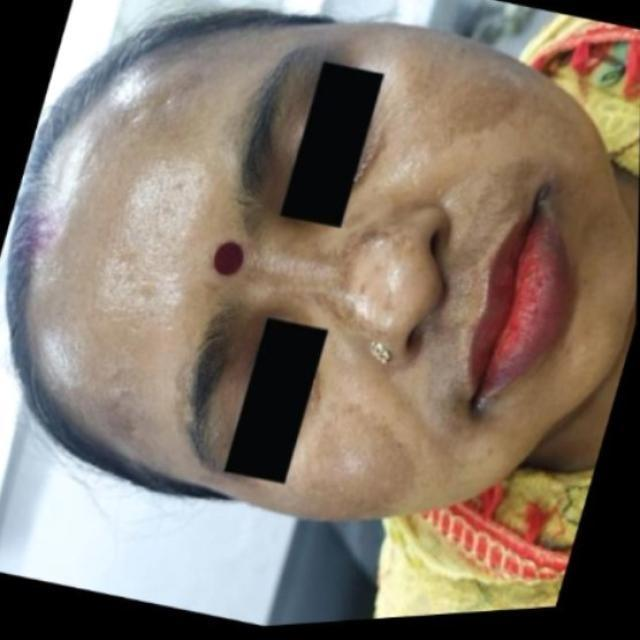Melasma: (53, 68, 221, 468), (405, 34, 568, 158), (294, 410, 416, 528)
